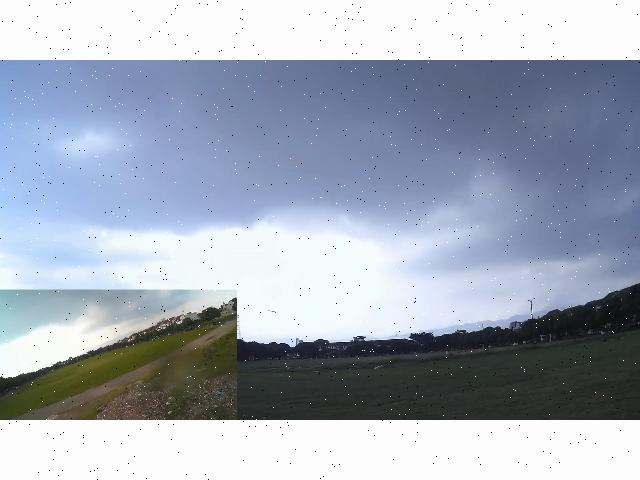Anti-Drone: (257, 305, 285, 323)
